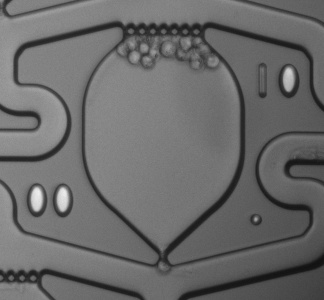AptNum: (244, 57, 304, 105)
Marker: (246, 209, 268, 230)
StNum: (19, 175, 83, 226)
Trap: (137, 256, 191, 300)
